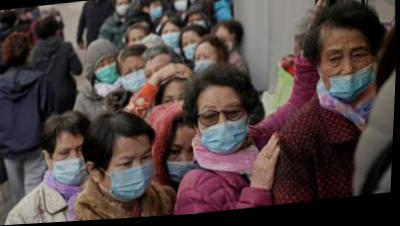OK: (106, 147, 161, 205), (199, 100, 251, 161), (52, 140, 91, 189), (122, 63, 150, 98), (193, 54, 219, 84), (96, 59, 122, 88), (161, 28, 183, 52), (182, 40, 202, 65), (187, 17, 209, 39), (149, 5, 165, 23), (116, 1, 131, 19), (174, 1, 190, 15)
WRONG: (319, 42, 377, 109), (167, 139, 200, 185)
